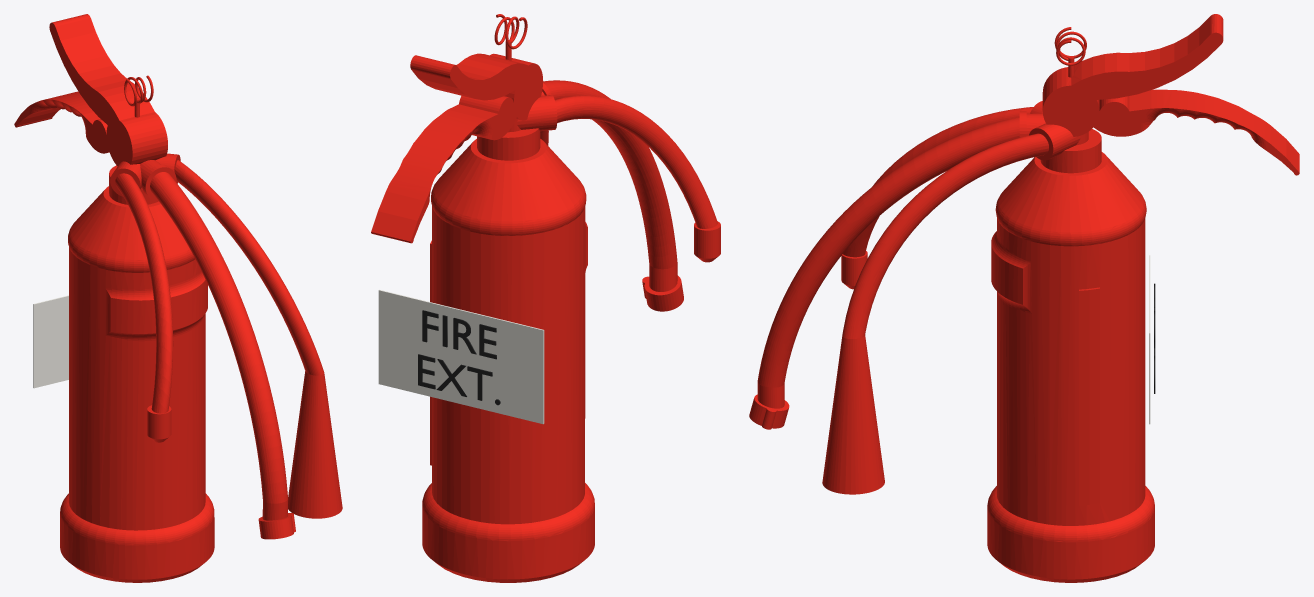
The model's file is FireExtinguisher.dae.
The picture shows the model from 3 angles, left to right: view 1: azimuth 30°, elevation 25°; view 2: azimuth 150°, elevation 25°; view 3: azimuth 270°, elevation 25°; orthographic projection. The views are drawn at different scales.
Visible parts, largest first — view 1: Fire, FireExtinguisher_label_panel; view 2: Fire, FireExtinguisher_label_panel, FireExtinguisher_label_text; view 3: Fire.
Boxes of the visible parts, left/top/right/bottom form: Fire: left=14, top=14, right=342, bottom=582; FireExtinguisher_label_panel: left=33, top=295, right=68, bottom=388; Fire: left=371, top=14, right=720, bottom=582; FireExtinguisher_label_panel: left=378, top=289, right=544, bottom=424; FireExtinguisher_label_text: left=418, top=310, right=500, bottom=405; Fire: left=749, top=14, right=1299, bottom=582.
Bounding box in the file's own units: 0.1649 × 0.3835 × 0.4053.
